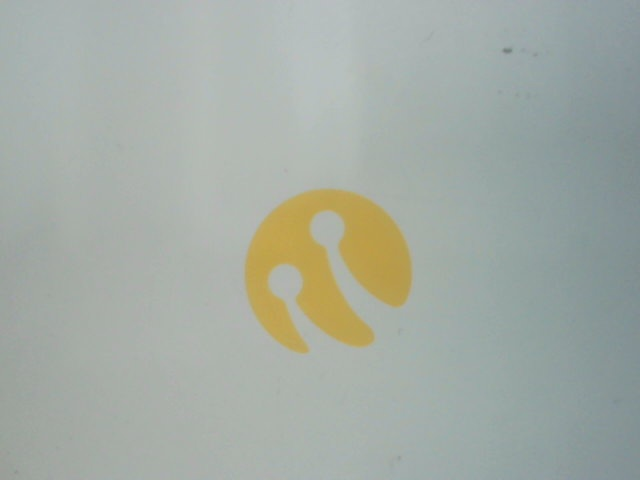AV_H3600Yellow: (226, 186, 422, 349)
